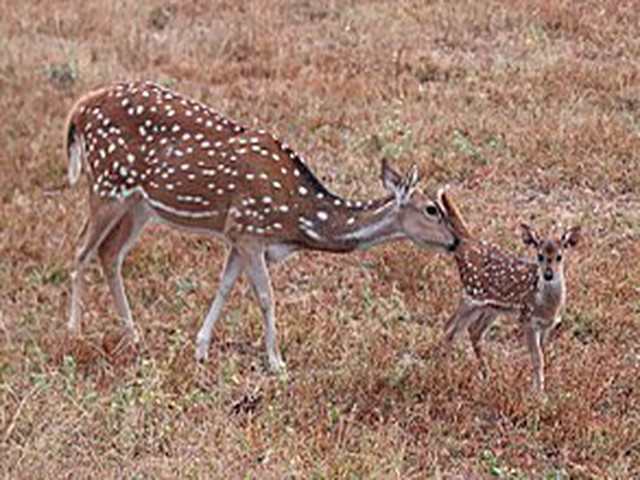deer: (53, 76, 455, 377), (459, 206, 585, 387)
